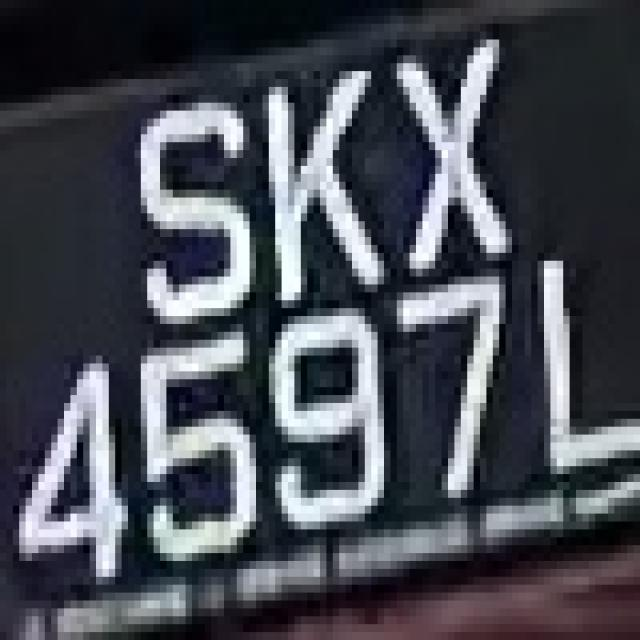4: (6, 332, 134, 624)
5: (122, 332, 275, 577)
7: (378, 245, 518, 529)
9: (249, 308, 396, 553)
K: (250, 48, 384, 308)
L: (525, 229, 640, 506)
S: (115, 55, 243, 324)
X: (384, 15, 525, 268)
